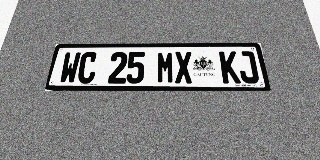2: (108, 52, 128, 84)
5: (126, 52, 145, 84)
C: (76, 52, 98, 84)
J: (236, 51, 260, 83)
K: (219, 51, 241, 83)
M: (157, 51, 175, 83)
W: (58, 52, 81, 84)
X: (174, 51, 193, 83)
